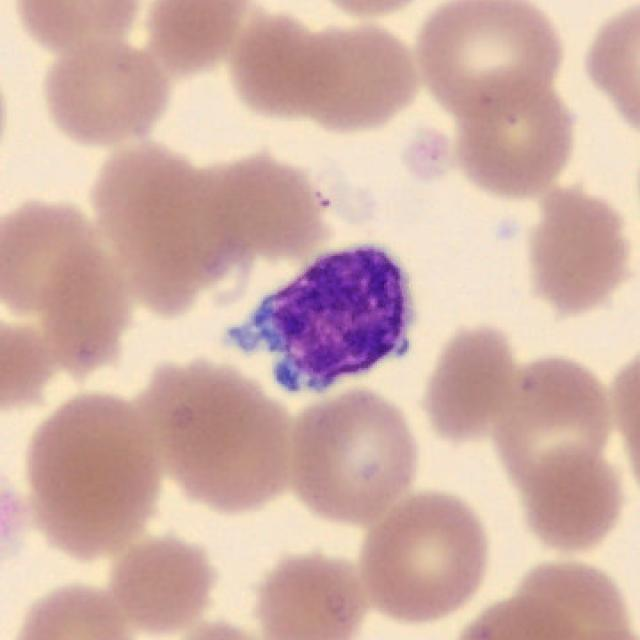Linfocito: (231, 249, 411, 393)
